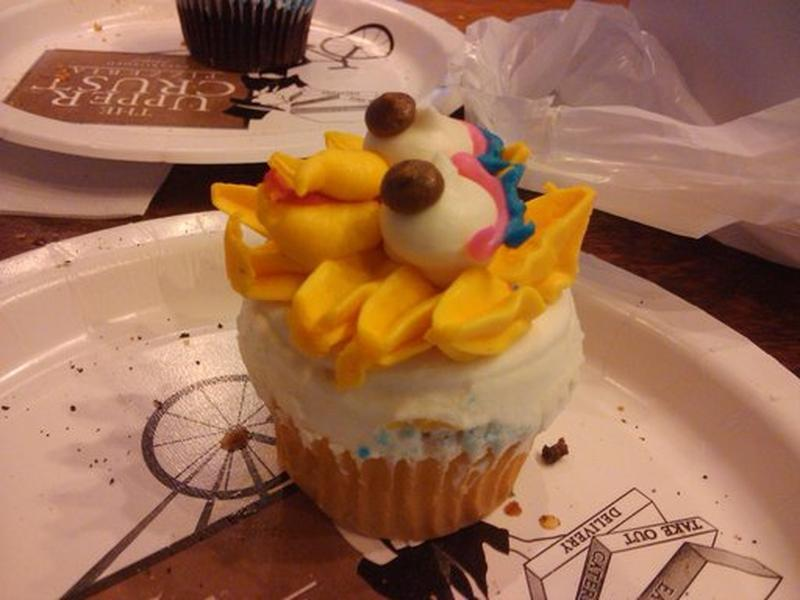cup_cake: (201, 81, 641, 595)
